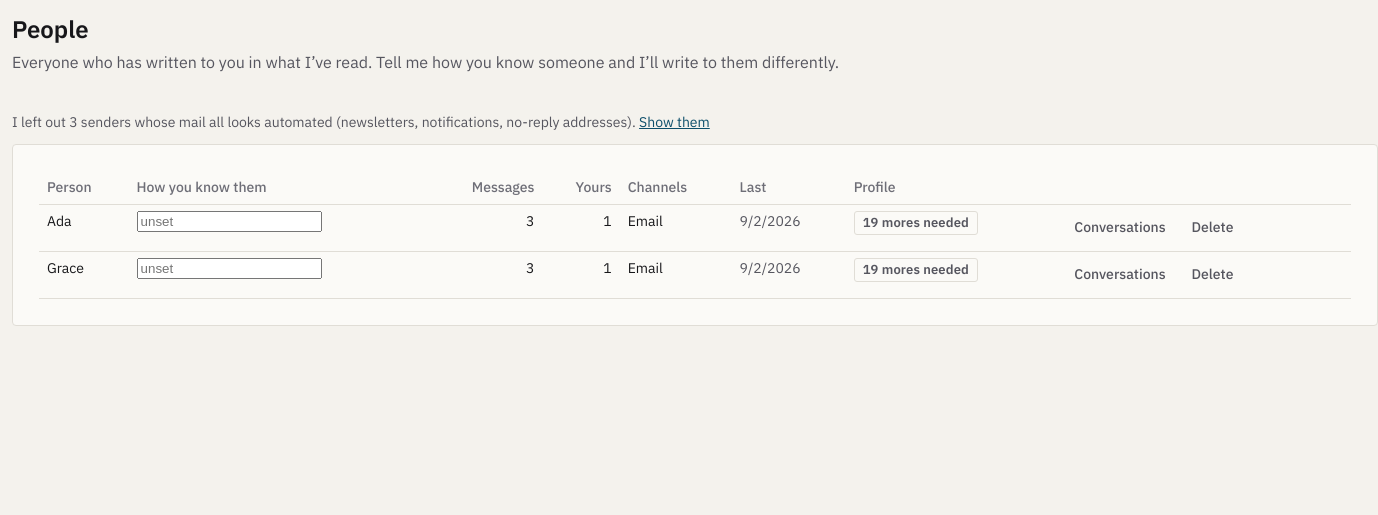
Scenario: People lists people › keeps the people and the way back when listing the senders fails
Click the button "Show them": (674, 122) x1=639 y1=112 x2=710 y2=132
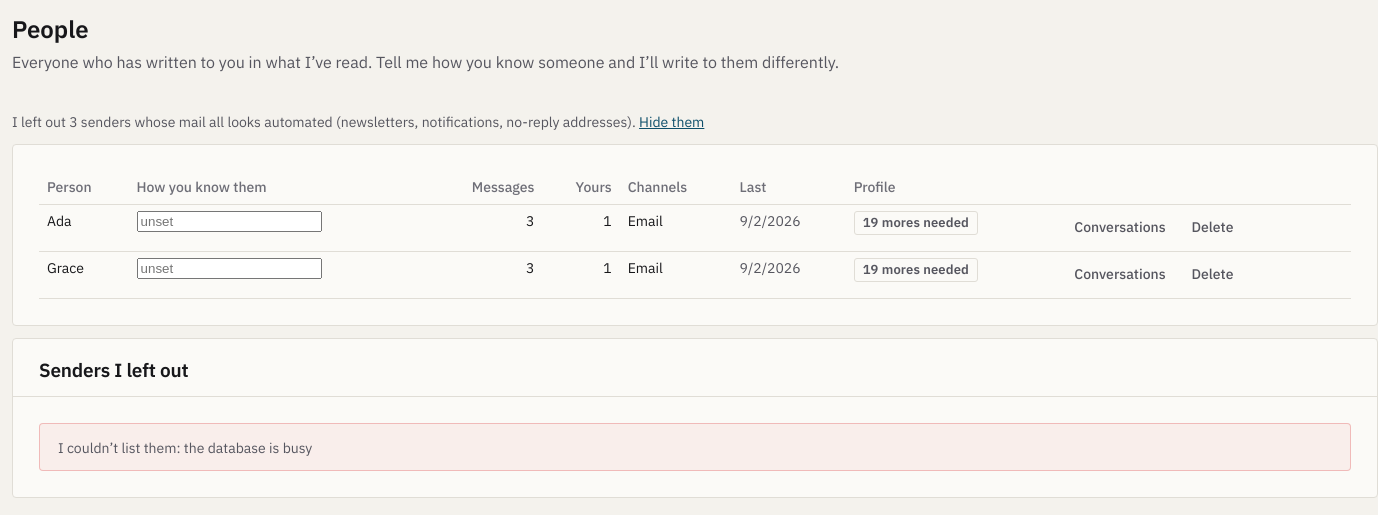
Expected: the text "Ada" is shown, x1=47 y1=212 x2=72 y2=230
Now the text "I couldn’t list them: the database is busy" is shown, box x1=58 y1=438 x2=312 y2=458
Now the button "Hide them" is shown, box x1=639 y1=112 x2=704 y2=132
